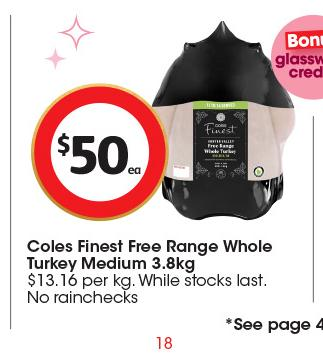description_block: (25, 238, 280, 270)
price_main: (29, 89, 164, 216)
product_image_block: (130, 24, 302, 231)
unit_price_block: (21, 271, 138, 291)
